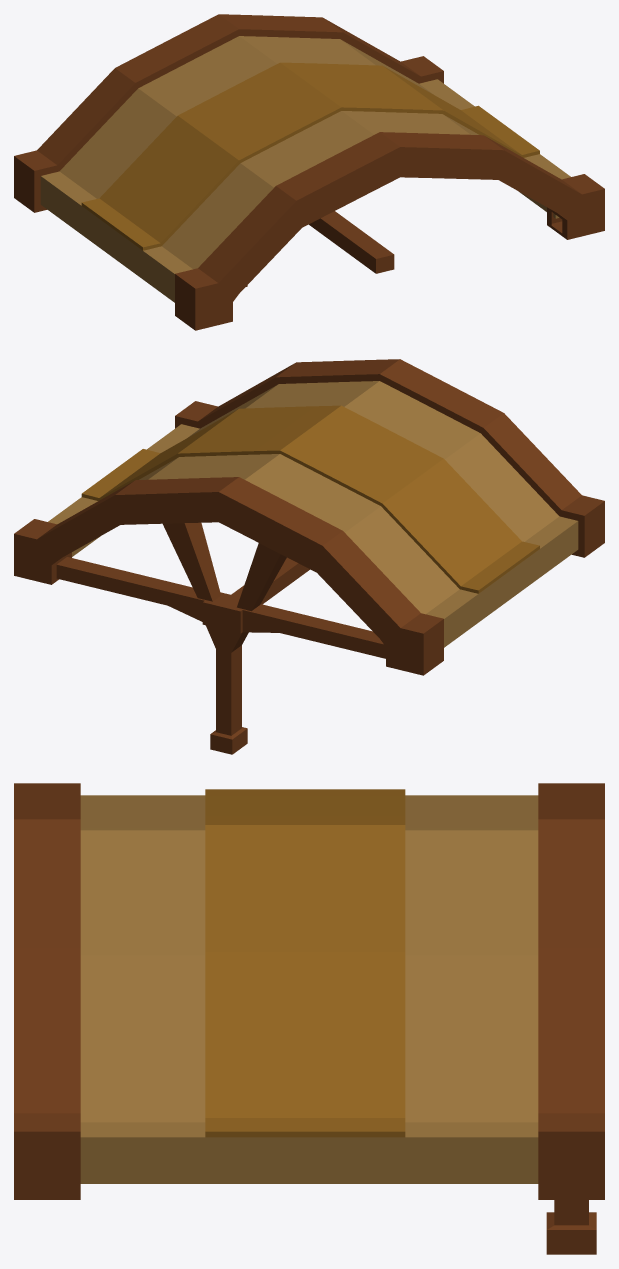
File: Roof_2.fbx
The picture shows the model from 3 angles, top to bottom: view 1: azimuth 30°, elevation 25°; view 2: azimuth 150°, elevation 25°; view 3: azimuth 270°, elevation 25°; orthographic projection. The views are drawn at different scales.
Parts seen in each view (by area): view 1: Room.001, Room.002; view 2: Room.001, Room.002; view 3: Room.001, Room.002.
Part boxes in pixels (x1,y1,x2,y2): Room.001: (14,14,570,302); Room.002: (175,132,604,330); Room.001: (14,381,578,754); Room.002: (175,359,604,557); Room.001: (80,783,604,1254); Room.002: (14,783,80,1199).
Size of the model in its own units: 745 by 456 by 572.
